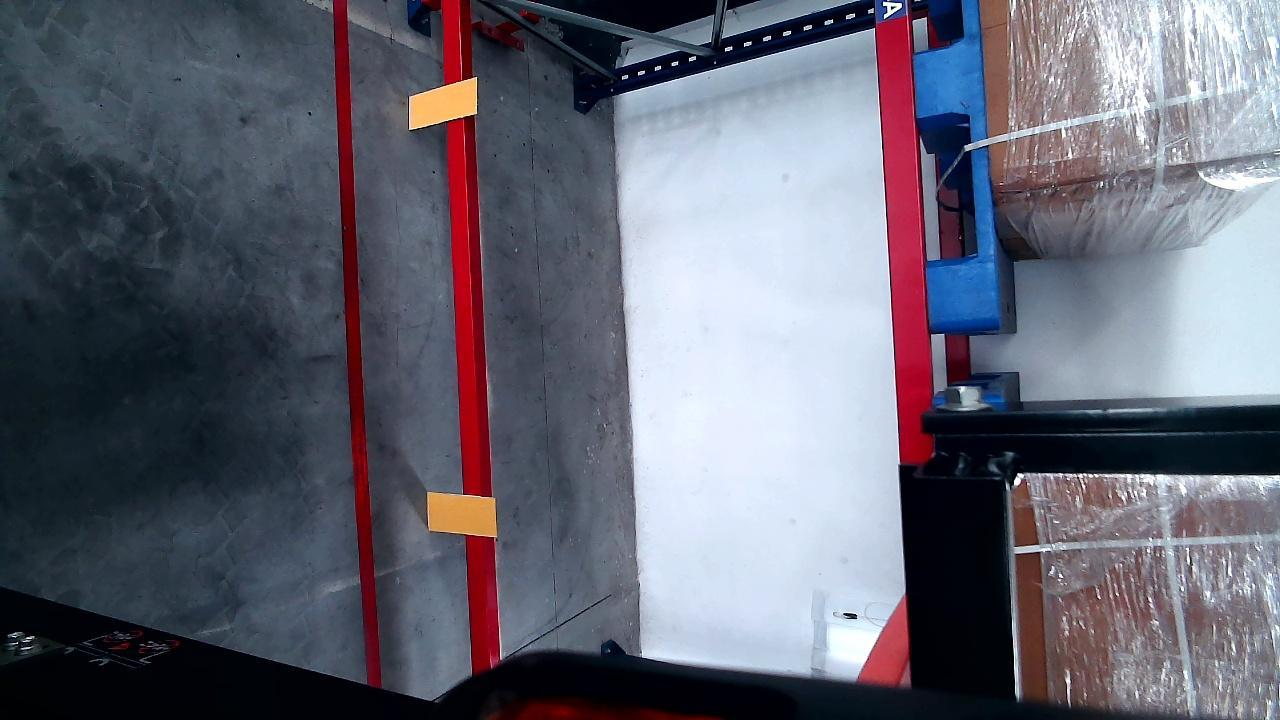red_line: (336, 4, 381, 683)
